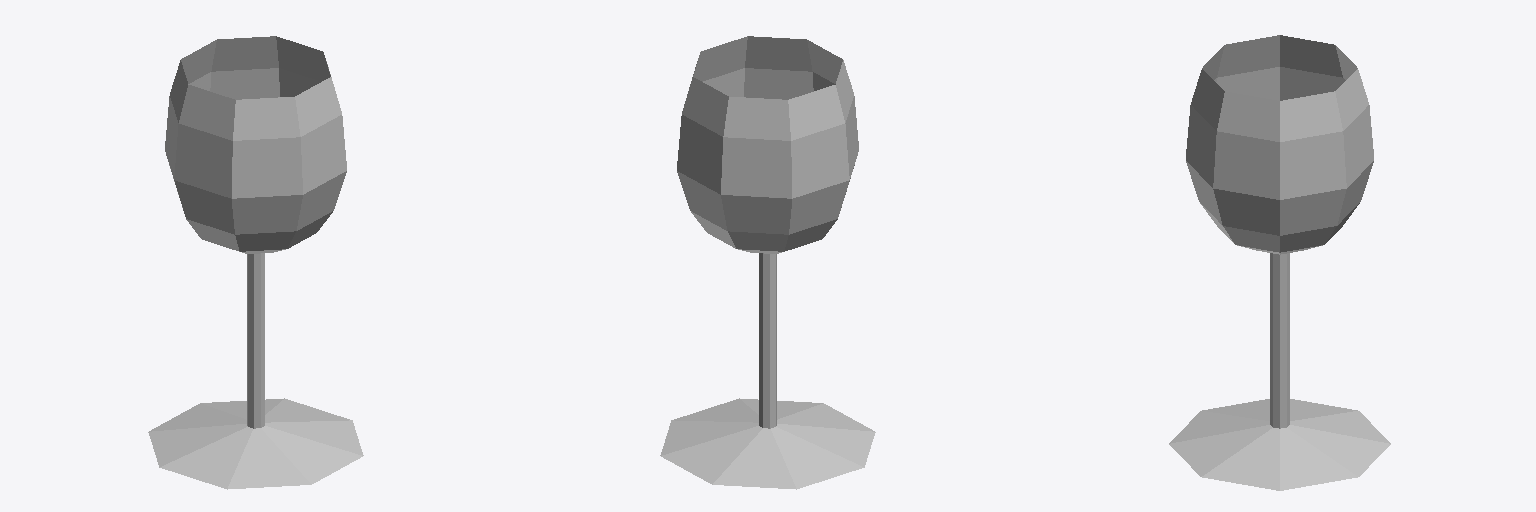
File: sercups_wine_glass.obj
3 renders of one model, left to right at view 1: azimuth 30°, elevation 25°; view 2: azimuth 150°, elevation 25°; view 3: azimuth 270°, elevation 25°, orthographic.
Parts seen in each view (by area): view 1: sercups_wine_glass_Cylinder.123; view 2: sercups_wine_glass_Cylinder.123; view 3: sercups_wine_glass_Cylinder.123.
Part boxes in pixels (x1,y1,x2,y2): sercups_wine_glass_Cylinder.123: (148, 36, 363, 489); sercups_wine_glass_Cylinder.123: (660, 36, 875, 489); sercups_wine_glass_Cylinder.123: (1169, 35, 1390, 490).
Size of the model in its own units: 2 by 3.72 by 2.